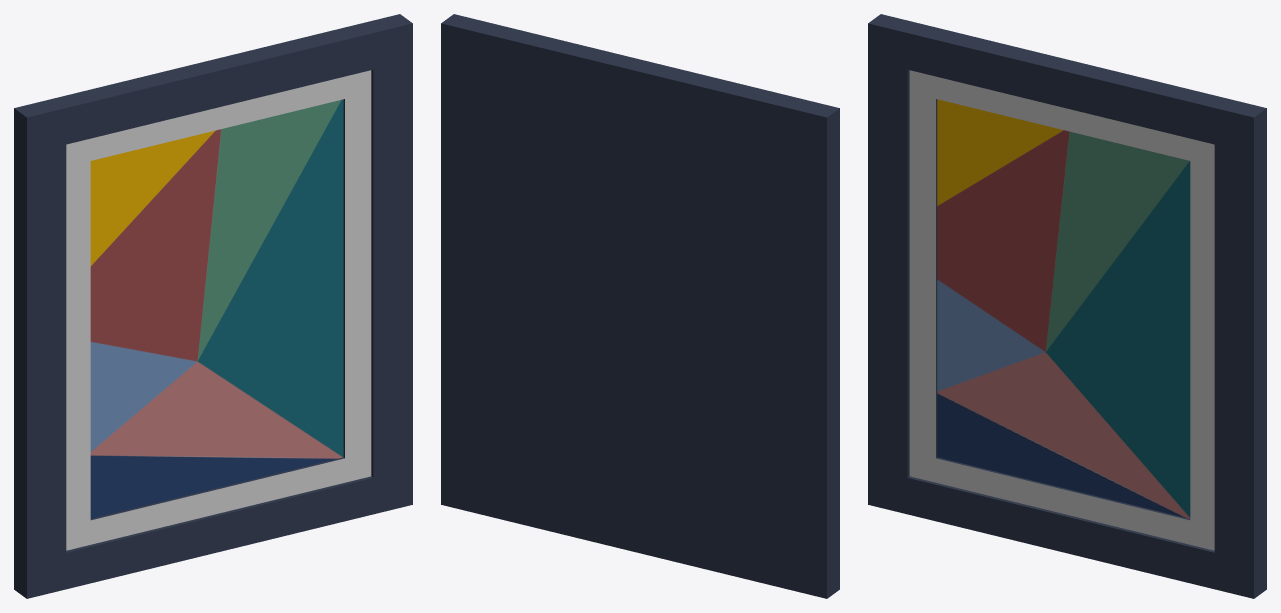
Rendered from cadre.fbx.
3 renders of one model, left to right at view 1: azimuth 30°, elevation 25°; view 2: azimuth 150°, elevation 25°; view 3: azimuth 330°, elevation 25°, orthographic.
Visible parts, largest first — view 1: cadre_4; view 2: cadre_4; view 3: cadre_4.
Part boxes in pixels (box(x1,y1,x2,y2)): cadre_4: box(14, 14, 412, 598); cadre_4: box(441, 14, 839, 598); cadre_4: box(868, 14, 1266, 598).
Bounding box in the file's own units: 2.76 × 3.29 × 0.1594.
Materials: 3 (1 with a texture image).
